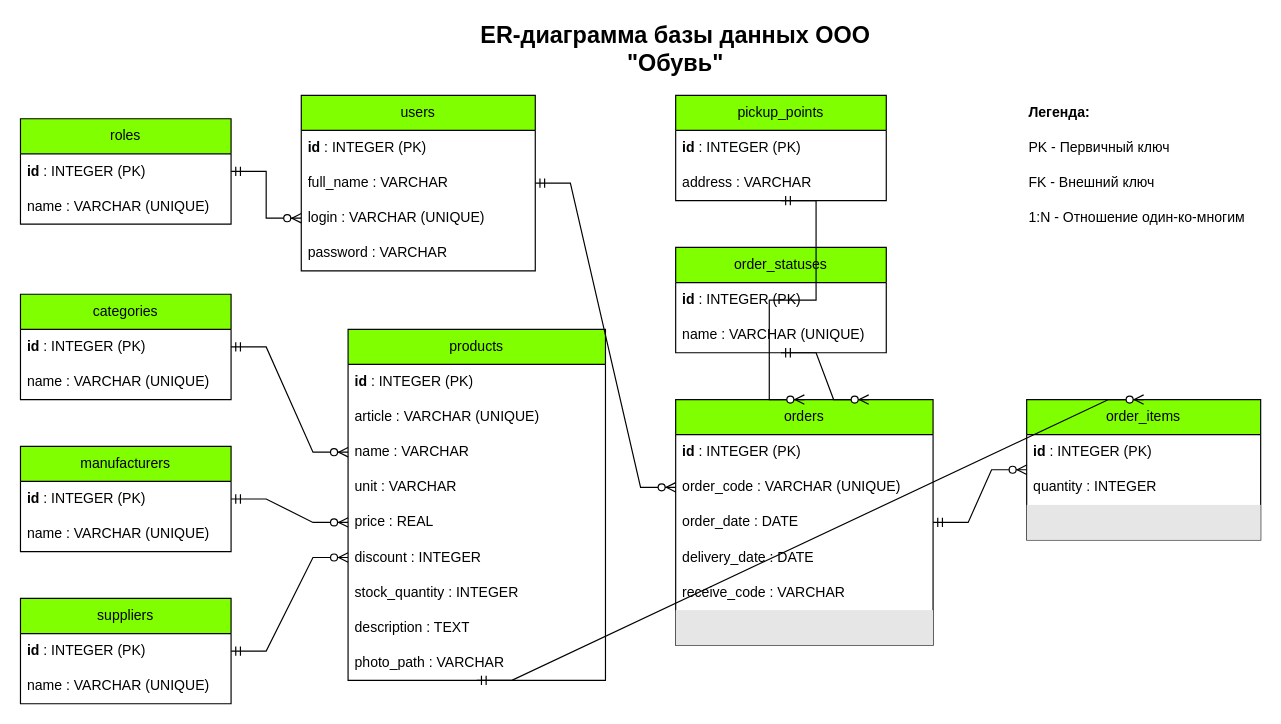
Image size: 1281x724. Some labels were removed from this diagram. The centre of each missing label's shape, as x and y in pixels:
order_id : INTEGER (FK): [1143,521]
user_id : INTEGER (FK): [803,627]
